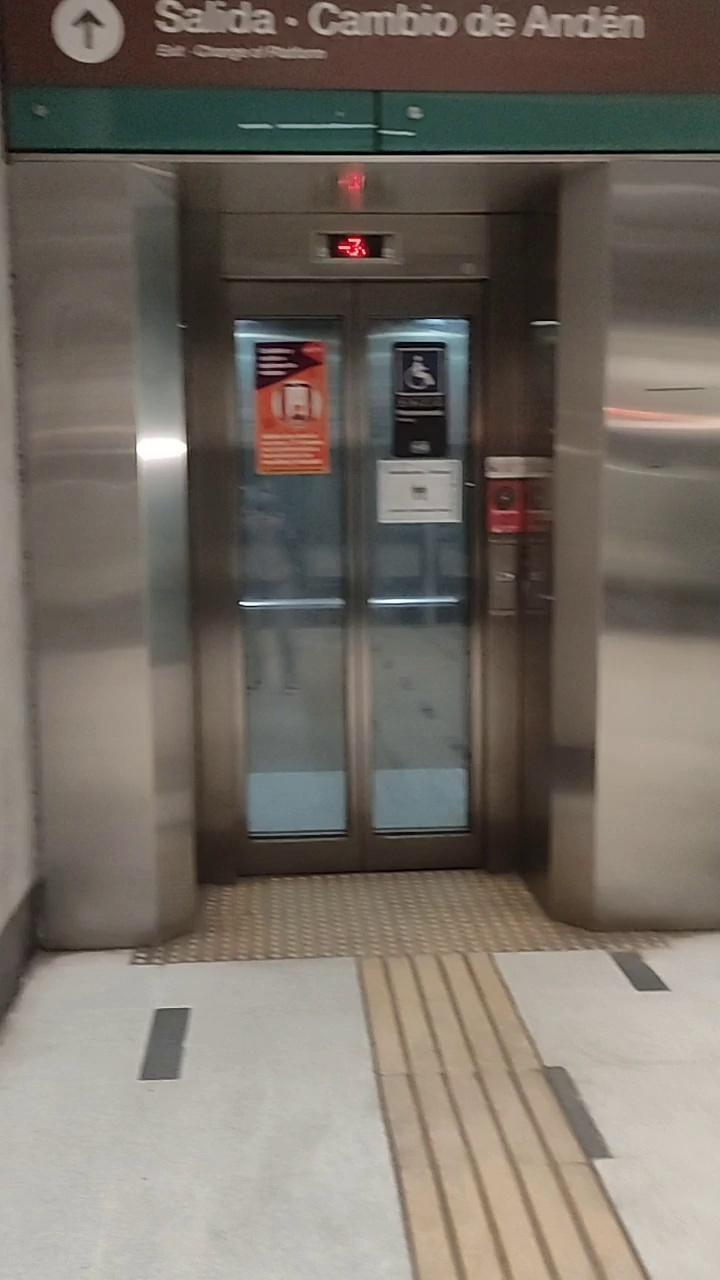handicapped symbol: (398, 345, 441, 400)
up arrow: (52, 0, 126, 58)
